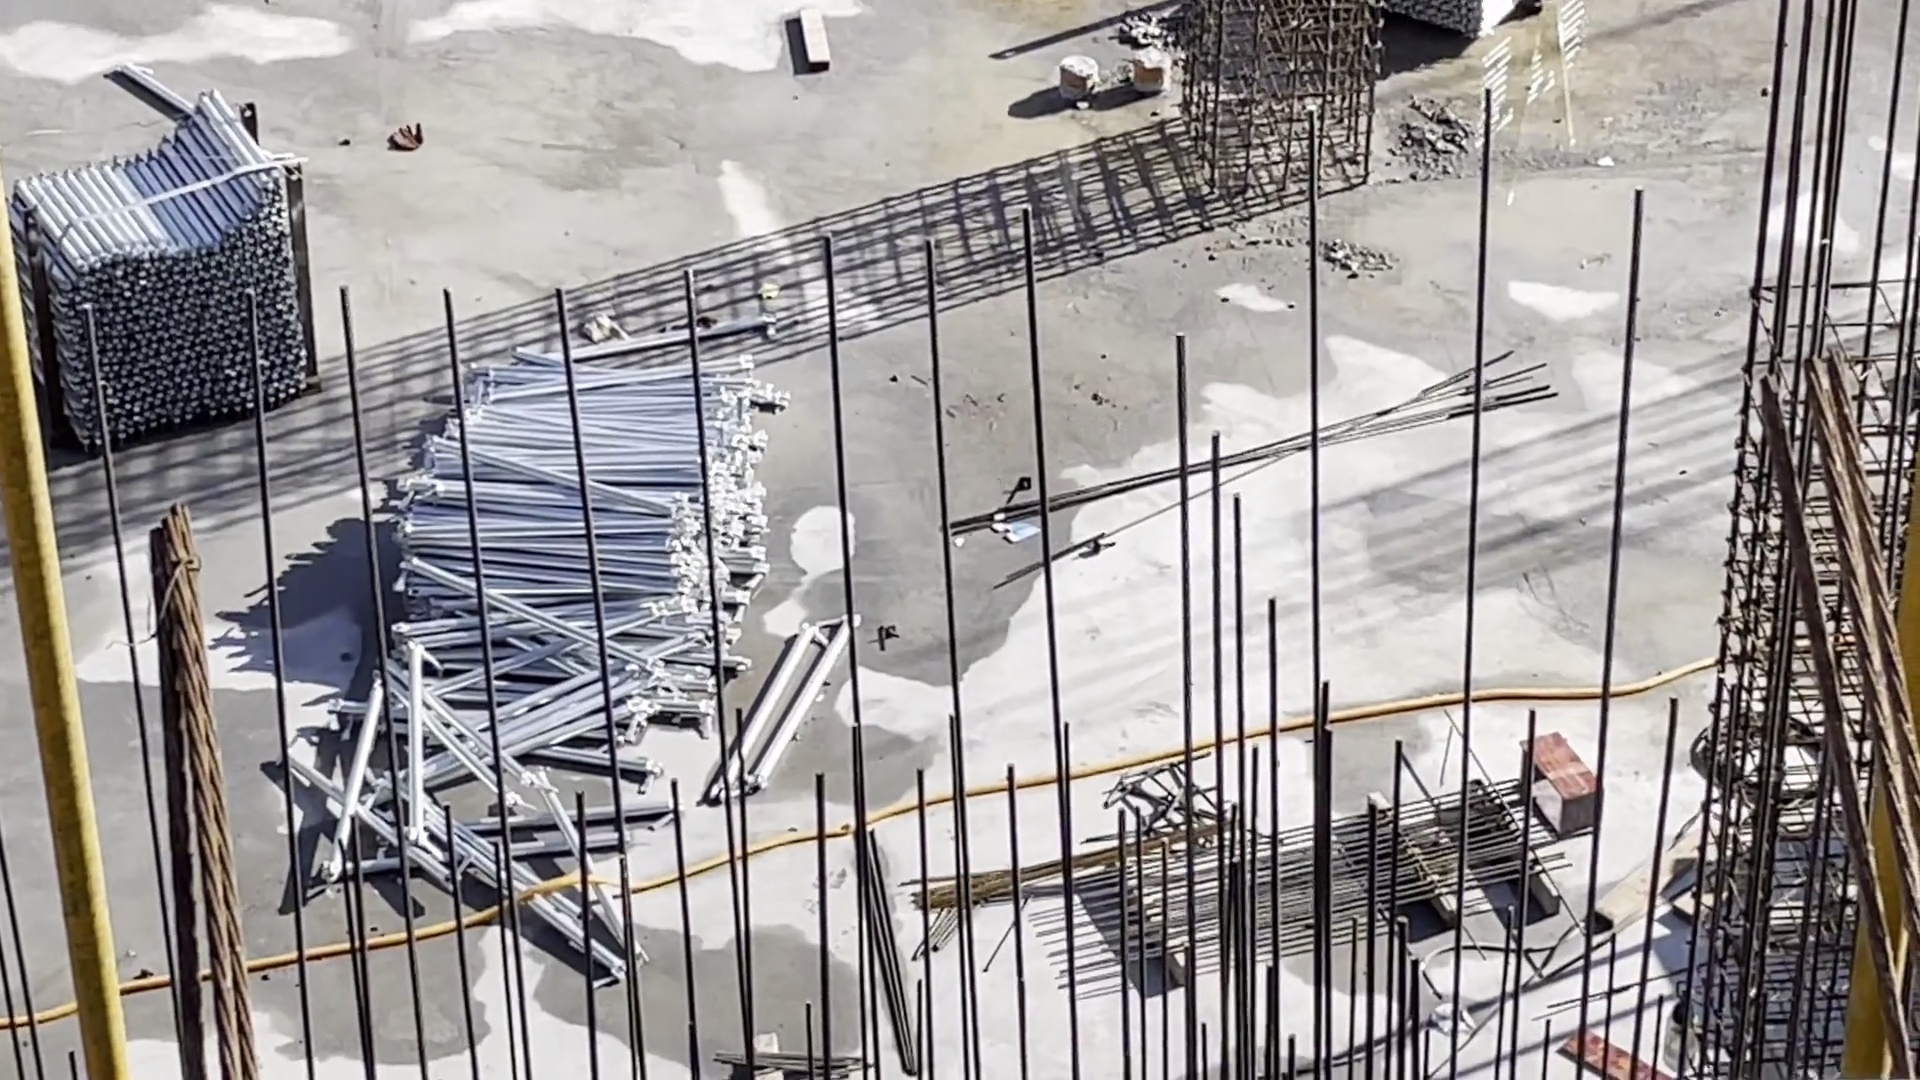scaffold: (357, 342, 796, 986), (11, 92, 320, 450)
